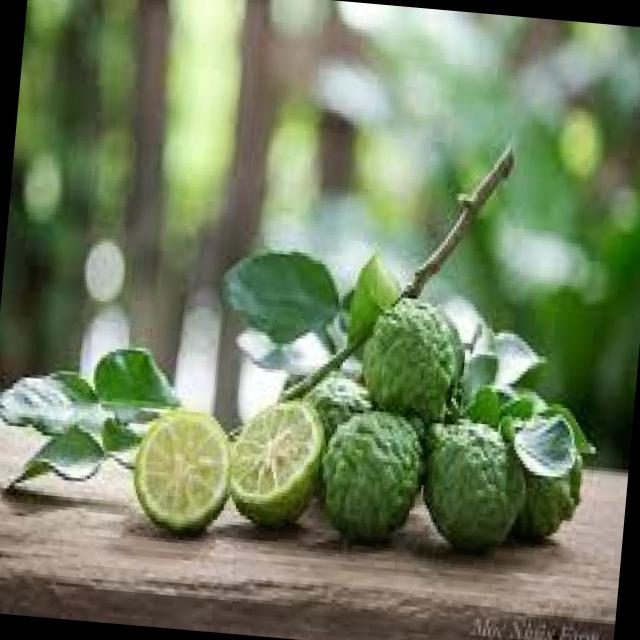Chuc: (416, 412, 531, 553), (315, 400, 425, 544), (355, 290, 469, 422), (127, 403, 234, 537), (222, 392, 326, 528), (501, 406, 586, 540), (301, 368, 373, 444)
